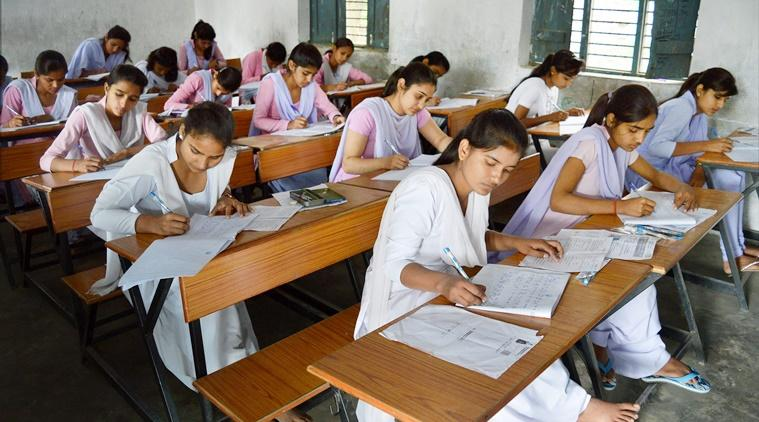student: (381, 109, 601, 394), (551, 83, 718, 268), (141, 99, 303, 252), (33, 62, 160, 187), (337, 67, 456, 181), (642, 57, 759, 172), (492, 44, 601, 138), (238, 48, 350, 136), (1, 43, 72, 135), (172, 13, 243, 72), (73, 20, 145, 77), (321, 30, 380, 92)
